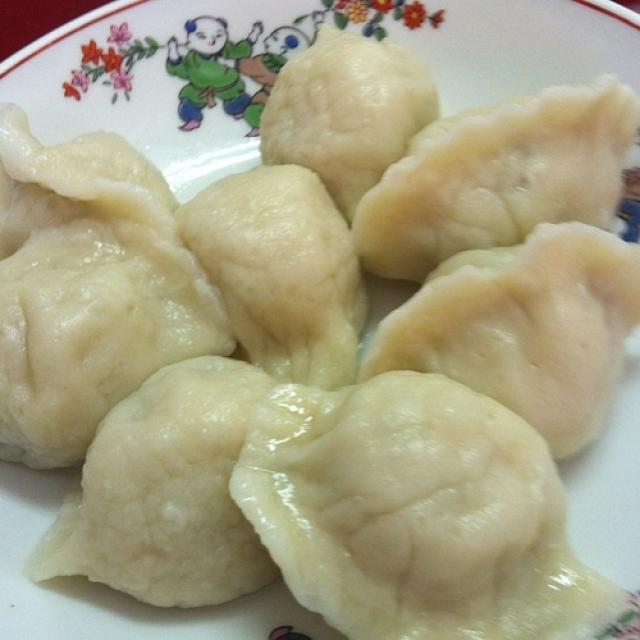带馅早点: (11, 16, 621, 610)
